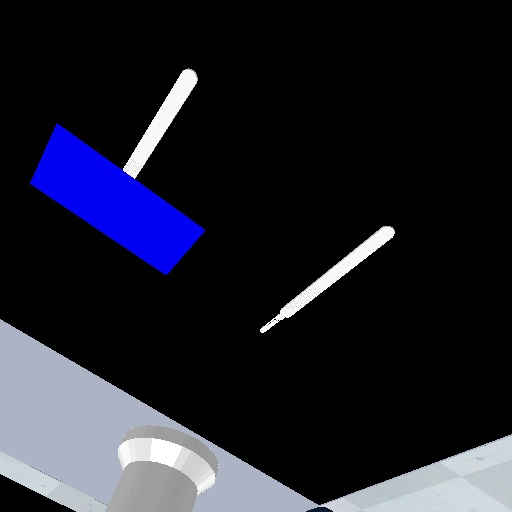bisturi: (256, 222, 398, 336), (118, 64, 203, 180)
